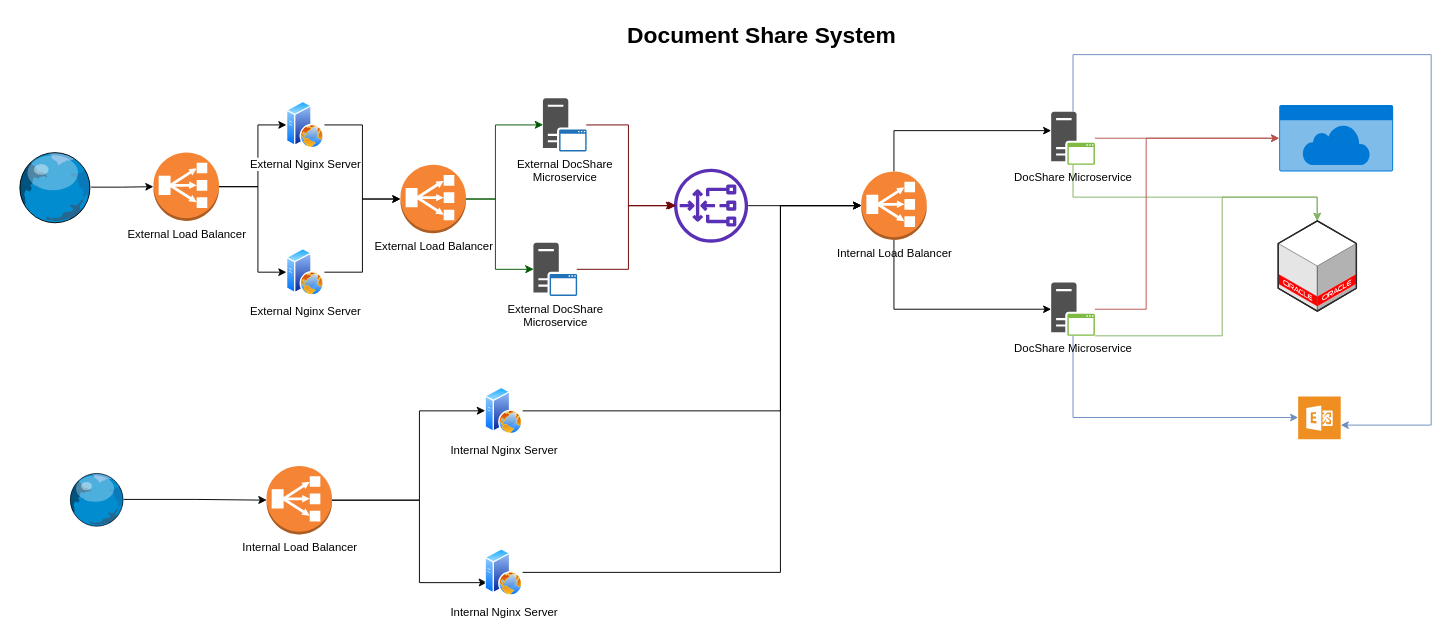
Some shapes in this 1455 by 635 pixel diagram are drawn without their labels. Each missing label, with the centre of its shape:
AFCU DB: the point at 1316,265
Box API: the point at 1336,137
Employee Portal: the point at 95,499
Exchange Server: the point at 1319,417
IBM DataPower: the point at 711,205
OLB Portal: the point at 53,186
